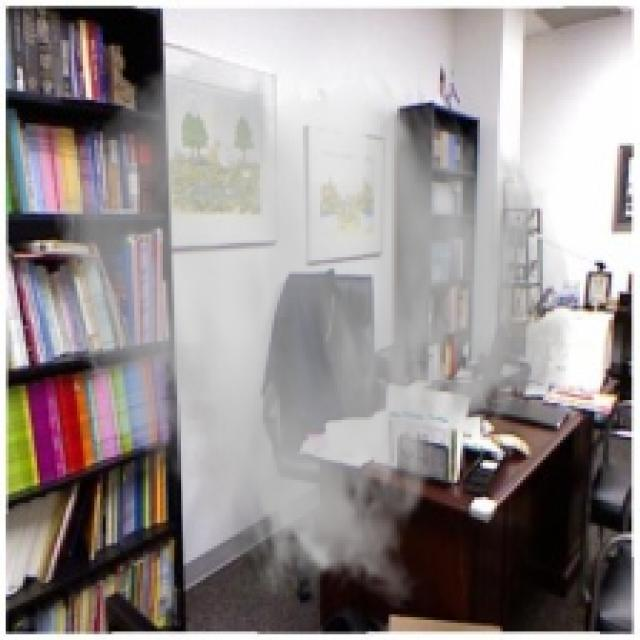smoke: (49, 51, 577, 612)
